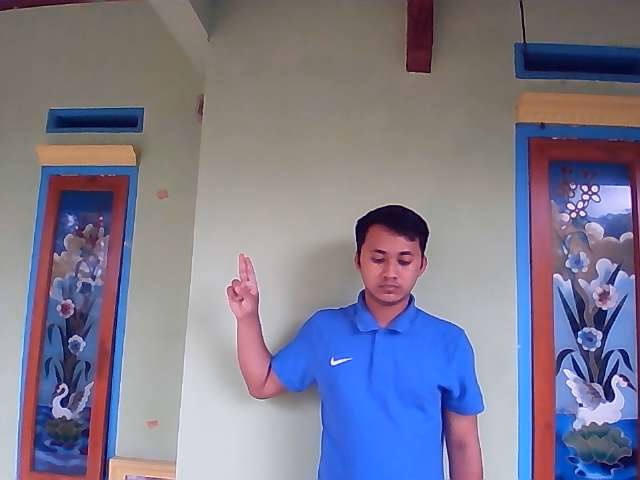U: (226, 254, 260, 317)
